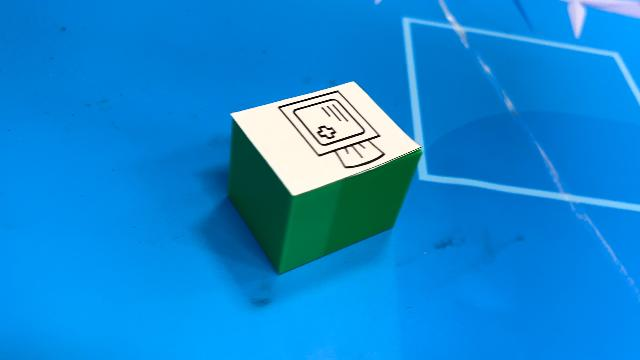napkin: (226, 79, 424, 275)
